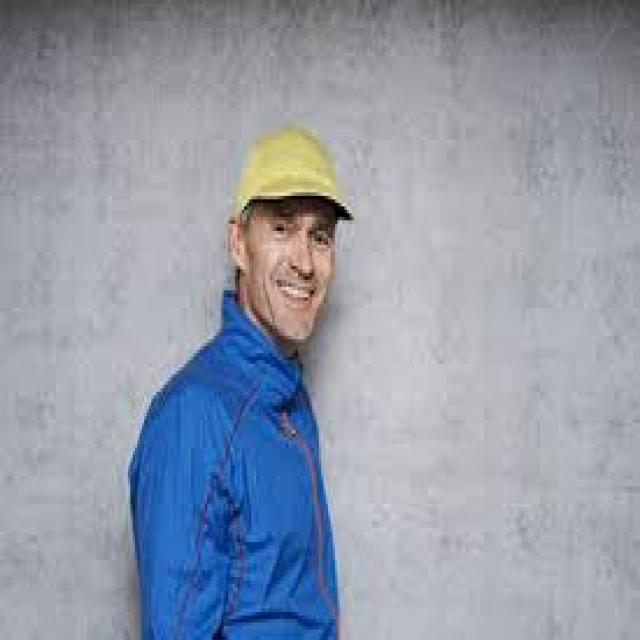3_gorra: (233, 125, 356, 222)
